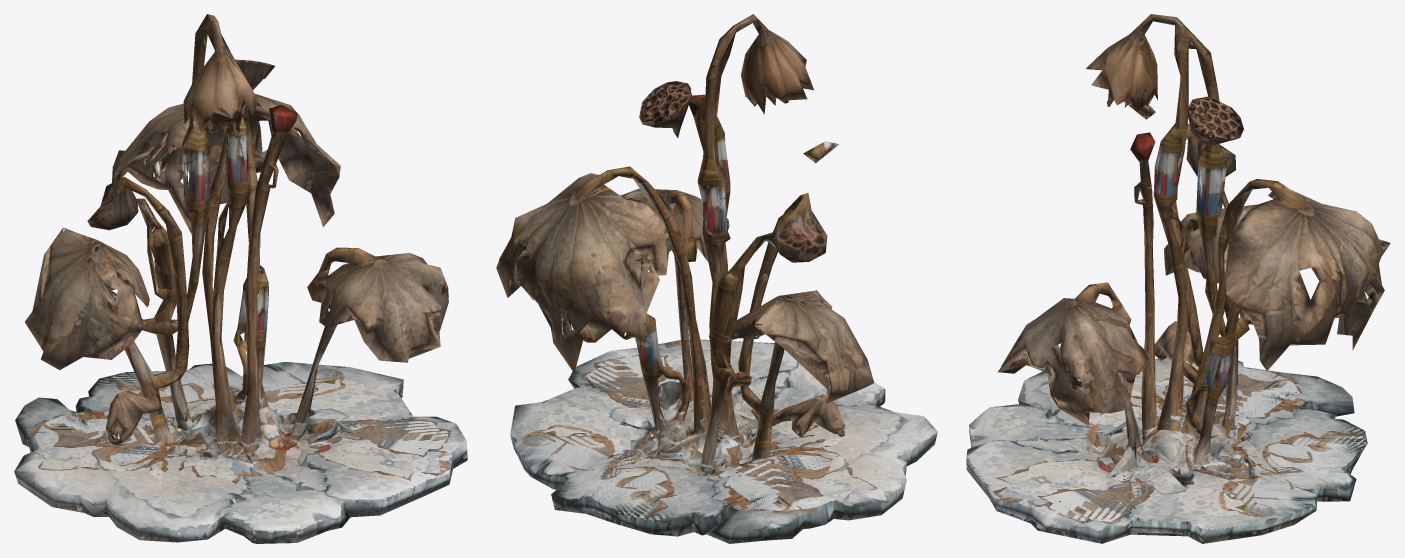
File: PR_Lotus.fbx
3 views of the same model, side by side, from view 1: azimuth 30°, elevation 25°; view 2: azimuth 150°, elevation 25°; view 3: azimuth 270°, elevation 25° (orthographic). The views are drawn at different scales.
Parts seen in each view (by area): view 1: texture_mapping; view 2: texture_mapping; view 3: texture_mapping.
Part boxes in pixels (x1,y1,x2,y2): texture_mapping: (14, 14, 467, 543); texture_mapping: (496, 14, 937, 543); texture_mapping: (966, 14, 1390, 543).
Size of the model in its own units: 0.8581 by 0.8475 by 0.9885.
Materials: 1 (1 with a texture image).
